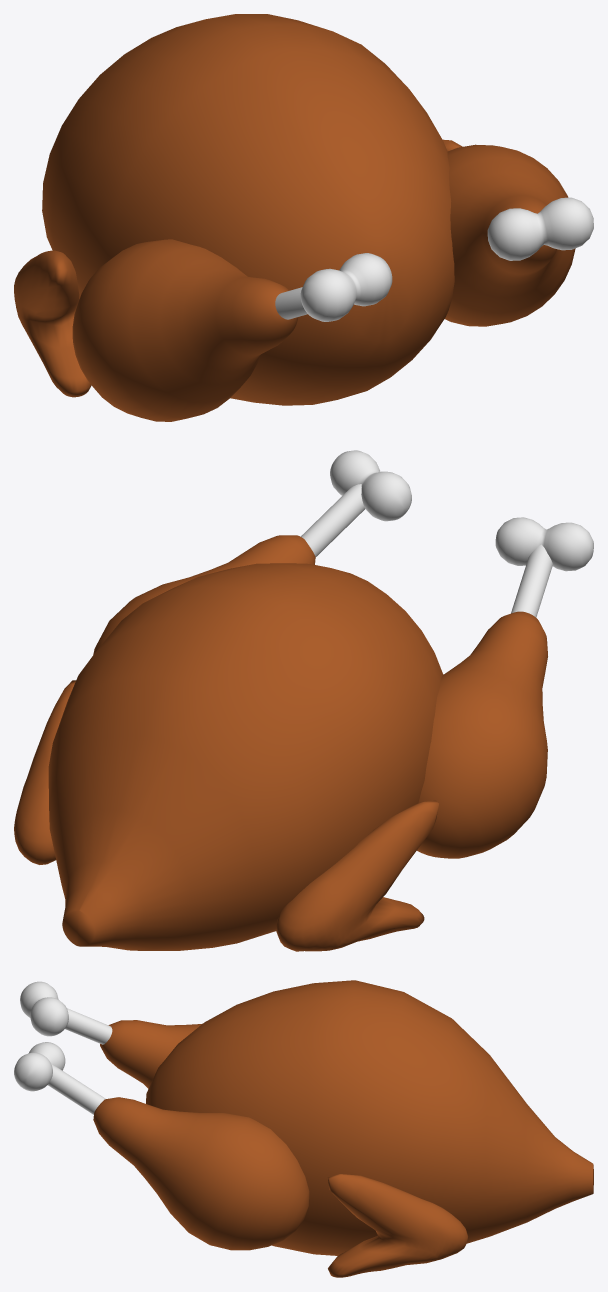
Rendered from POLLOPOLLOPOLLO.fbx.
3 renders of one model, top to bottom at view 1: azimuth 30°, elevation 25°; view 2: azimuth 150°, elevation 25°; view 3: azimuth 270°, elevation 25°, orthographic. The views are drawn at different scales.
Visible parts, largest first — view 1: Cylinder, Cylinder.001, Cylinder.002; view 2: Cylinder, Cylinder.001, Cylinder.002; view 3: Cylinder, Cylinder.002, Cylinder.001.
Part boxes in pixels (bbox=[...]): Cylinder: bbox=[14, 14, 575, 421]; Cylinder.001: bbox=[275, 253, 392, 321]; Cylinder.002: bbox=[487, 197, 593, 260]; Cylinder: bbox=[14, 535, 547, 951]; Cylinder.001: bbox=[495, 517, 593, 617]; Cylinder.002: bbox=[300, 450, 411, 556]; Cylinder: bbox=[93, 980, 593, 1277]; Cylinder.002: bbox=[14, 1042, 105, 1114]; Cylinder.001: bbox=[20, 981, 112, 1044].
Size of the model in its own units: 285 by 199 by 417.
